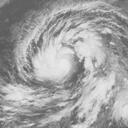cyclone: (15, 2, 106, 87)
